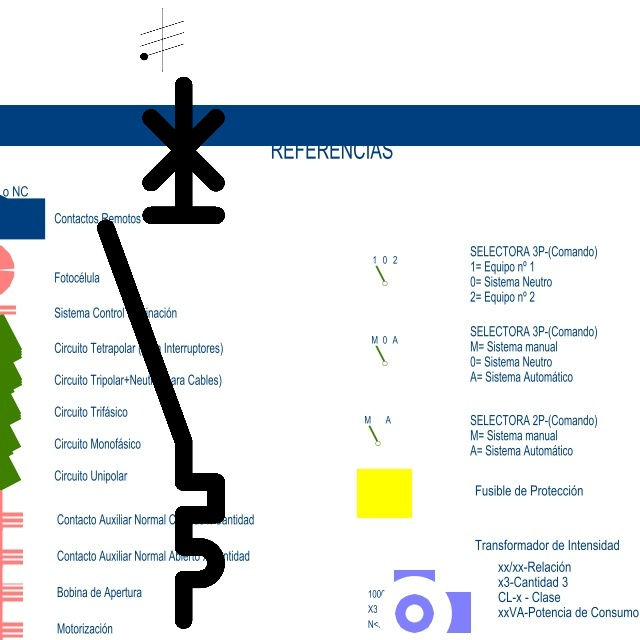interruptor_termomagnetico: (92, 71, 230, 633)
